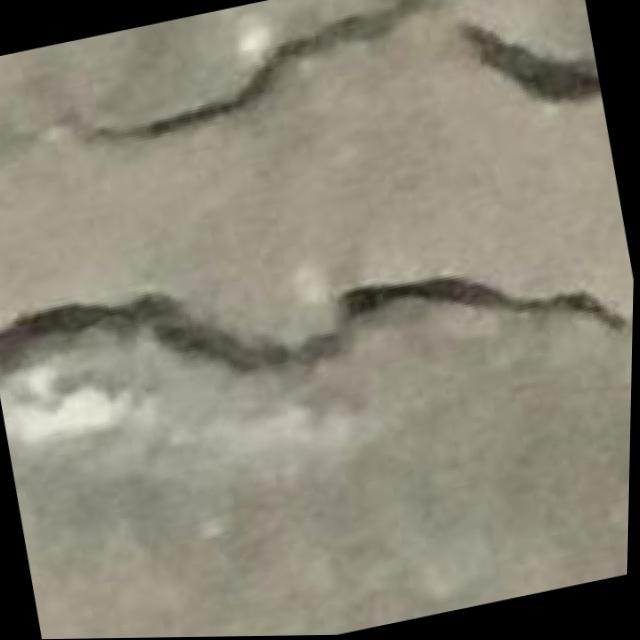Crack: (0, 195, 636, 529)
